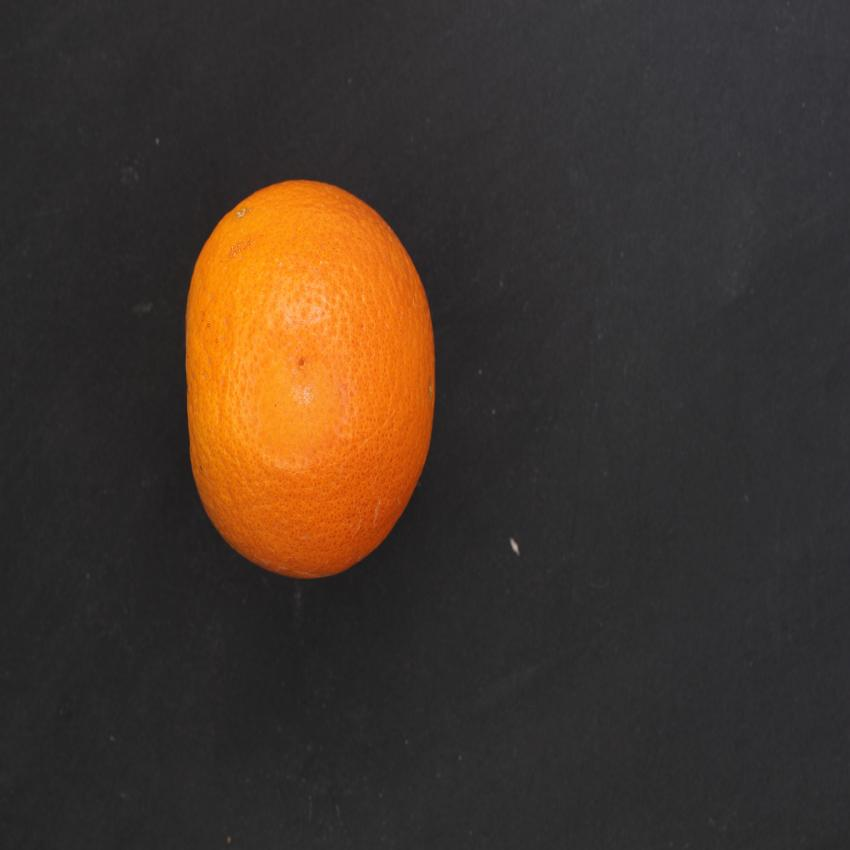Buen estado: (176, 150, 444, 610)
